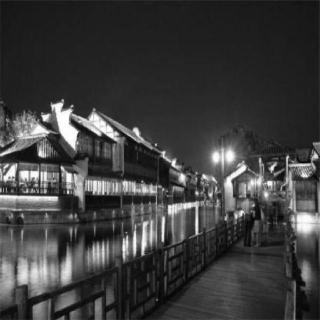other: (290, 209, 316, 237), (210, 146, 237, 172), (160, 201, 206, 211)
